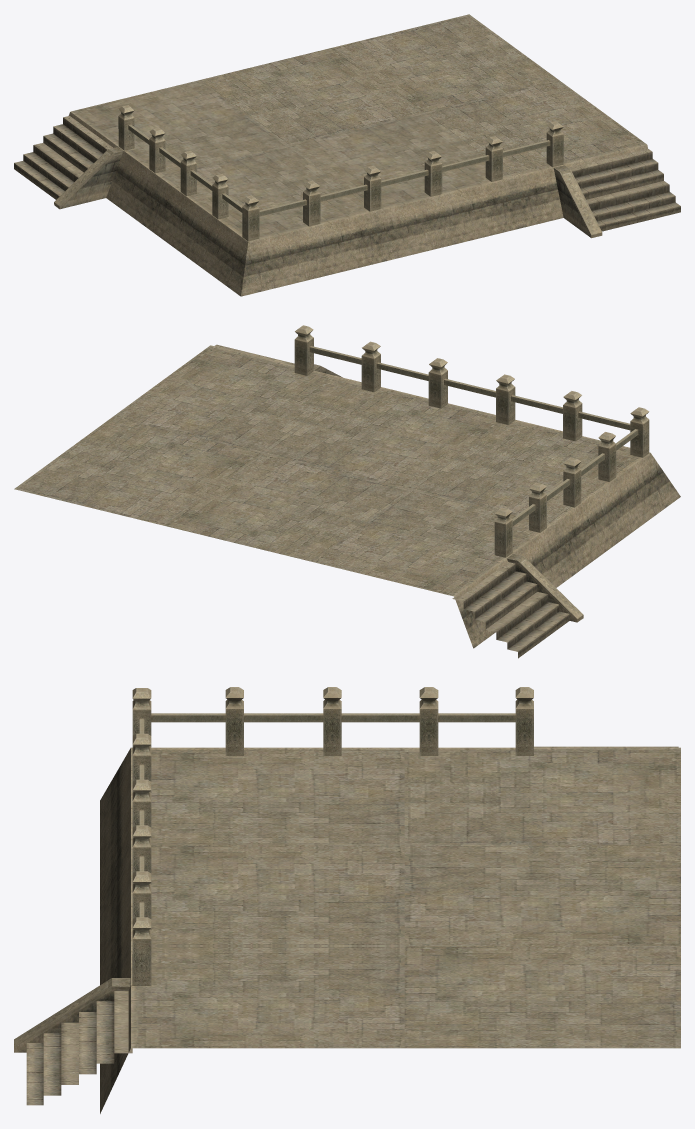
File: desert_tower01.fbx
The picture shows the model from 3 angles, top to bottom: view 1: azimuth 30°, elevation 25°; view 2: azimuth 150°, elevation 25°; view 3: azimuth 270°, elevation 25°; orthographic projection. The views are drawn at different scales.
Visible parts, largest first — view 1: desert_tower02_04; view 2: desert_tower02_04; view 3: desert_tower02_04.
Boxes of the visible parts, <box> form: desert_tower02_04: <box>14,14,680,296</box>; desert_tower02_04: <box>14,325,680,658</box>; desert_tower02_04: <box>14,687,680,1113</box>.
Bounding box in the file's own units: 42.51 × 7.32 × 34.34.
